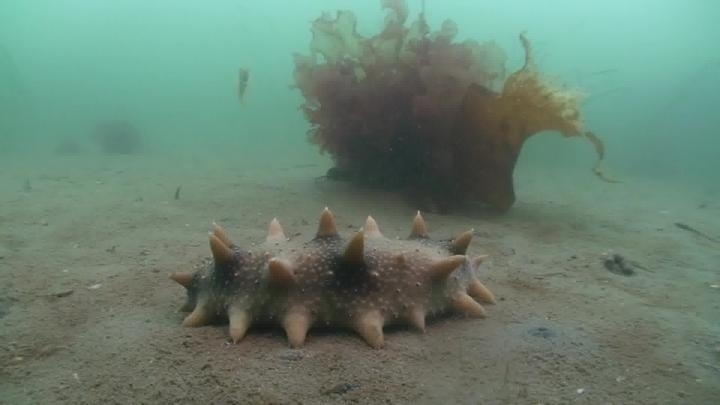holothurian: (166, 210, 495, 354)
